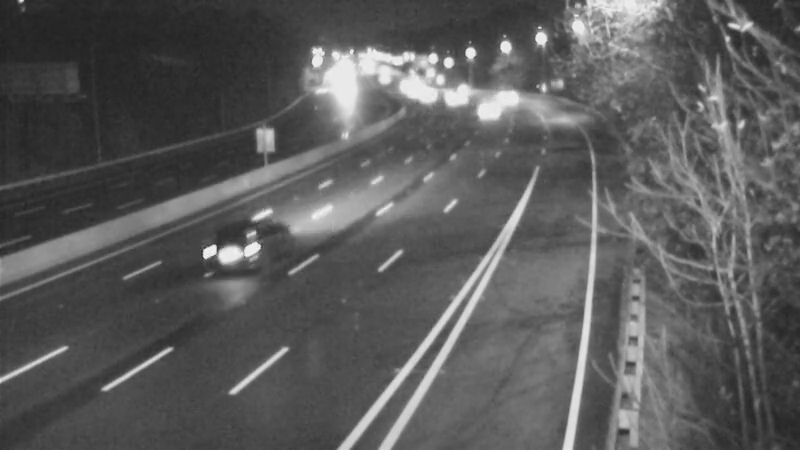vehicle: (200, 218, 280, 298), (425, 73, 475, 123), (477, 72, 527, 122), (463, 83, 513, 133)
